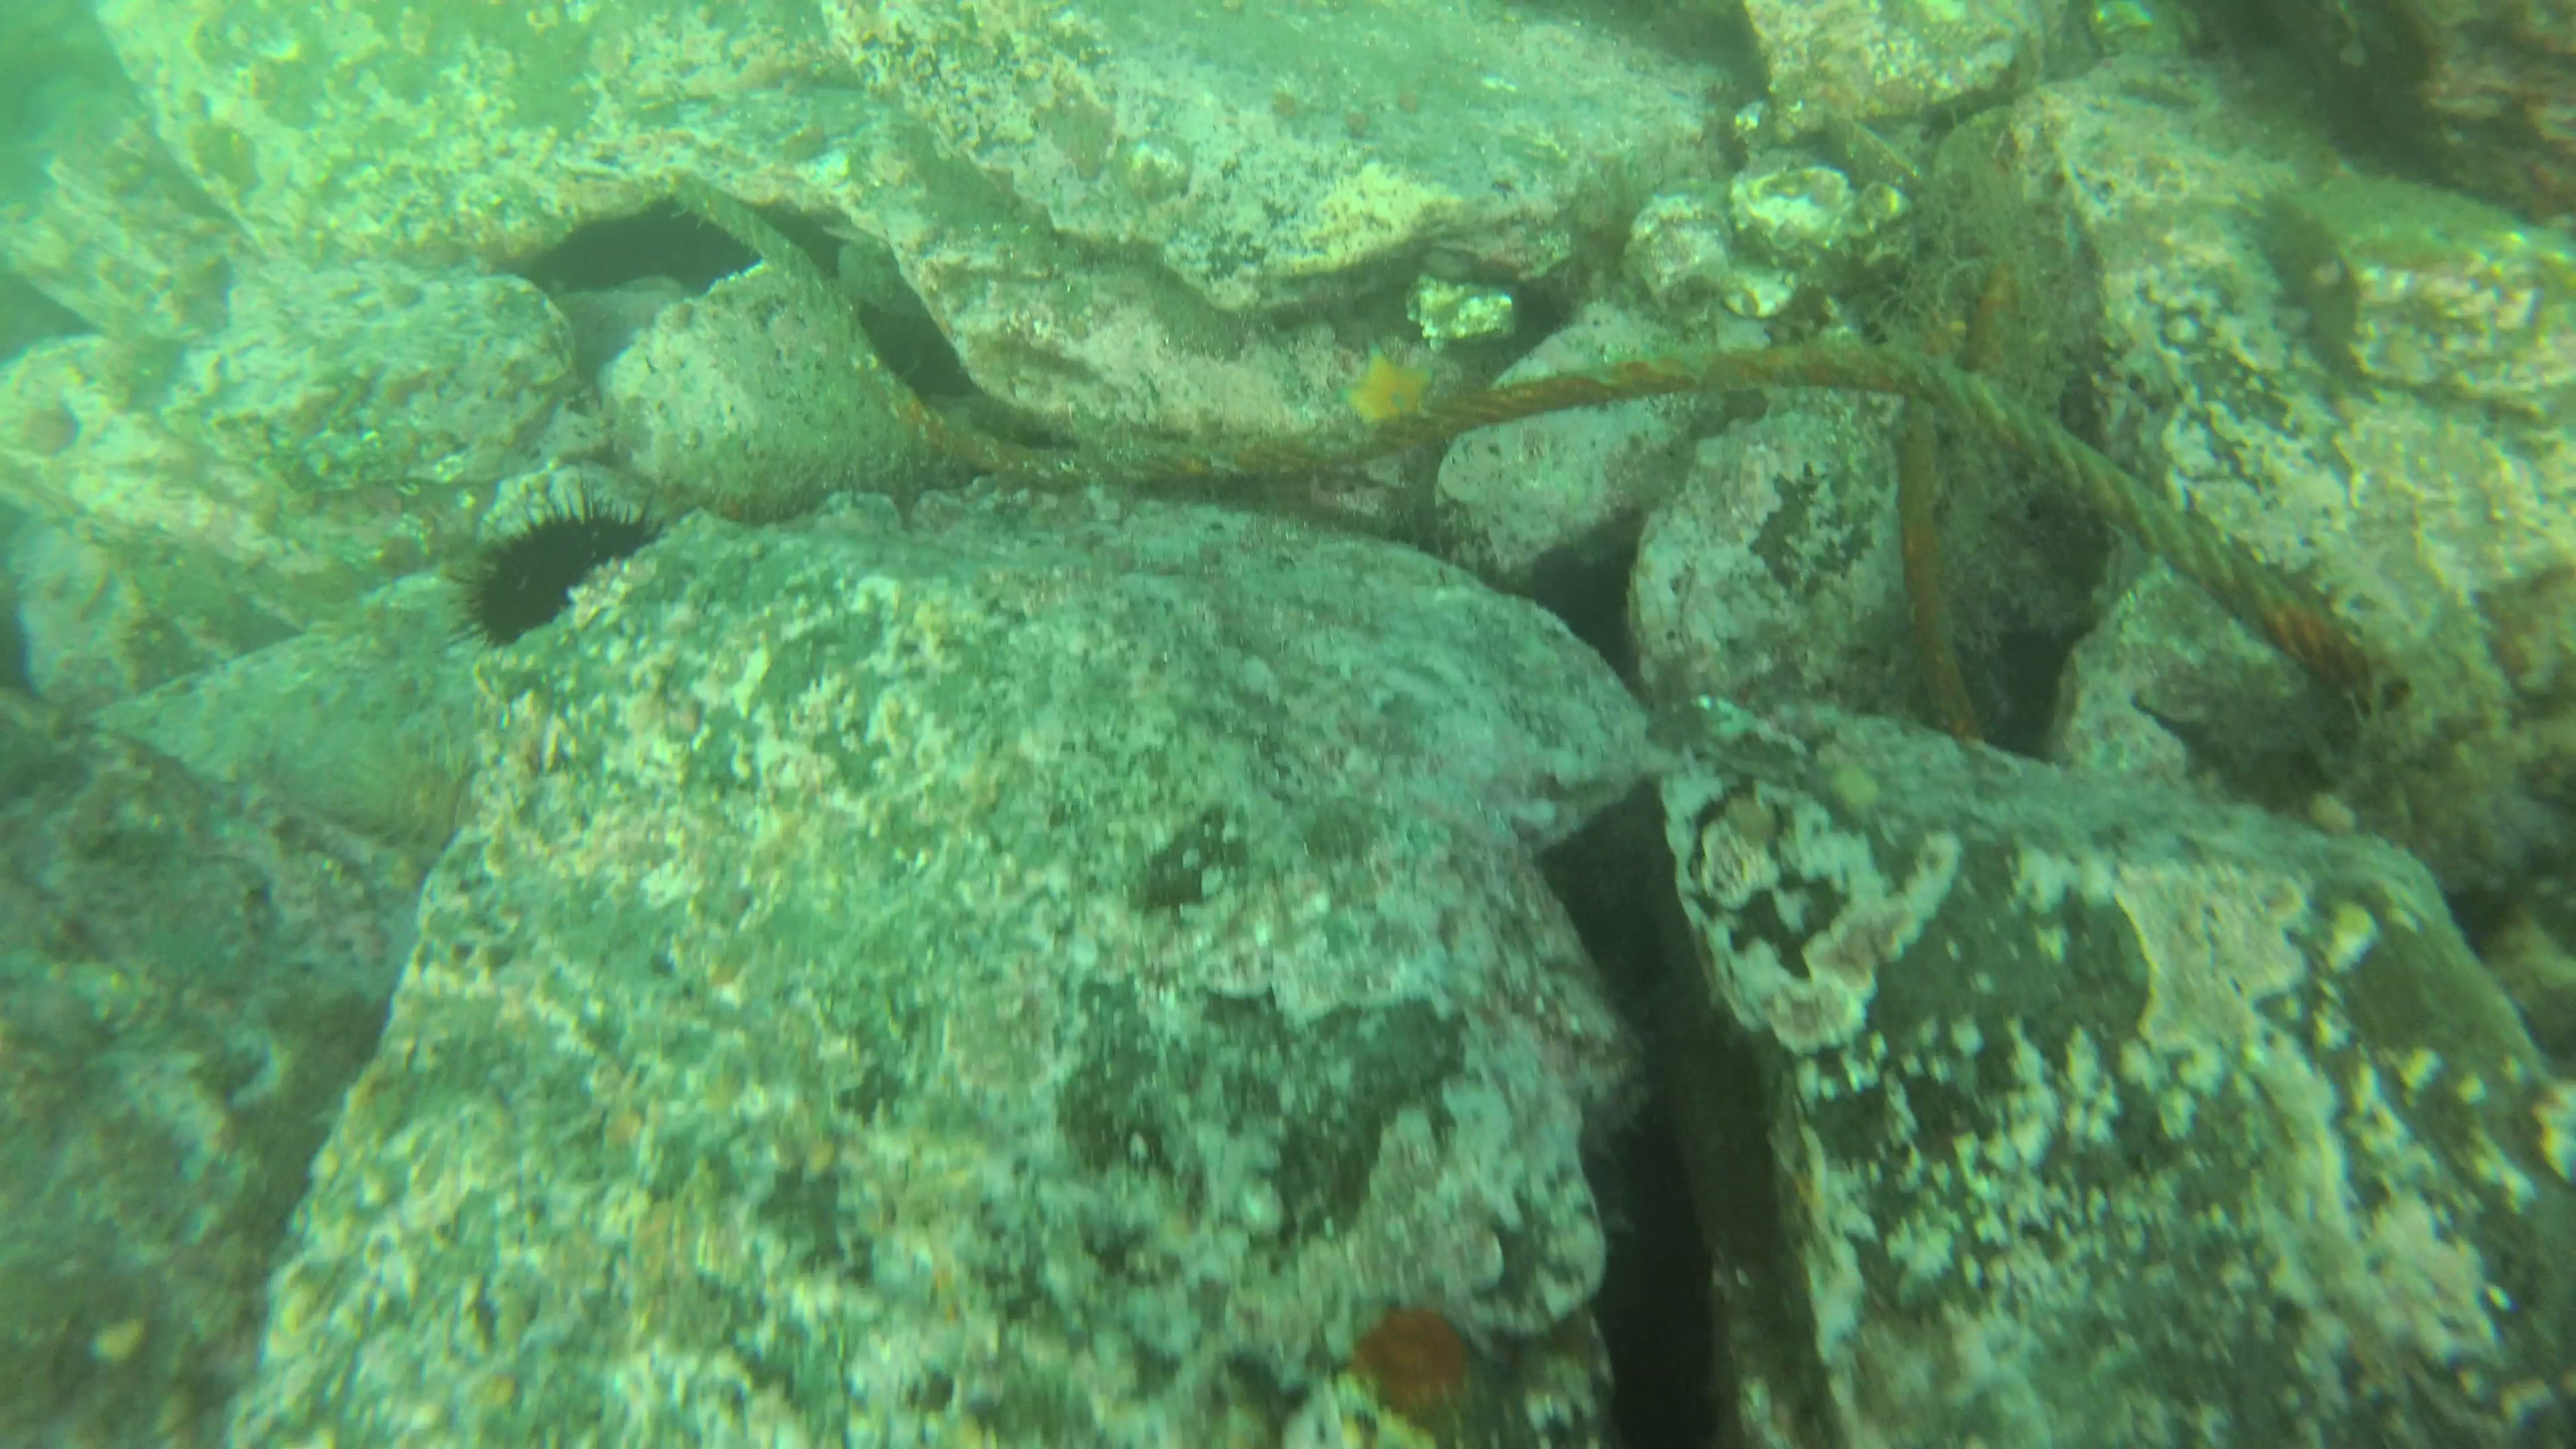echinus: (441, 490, 669, 653)
starfish: (1330, 336, 1445, 444)
